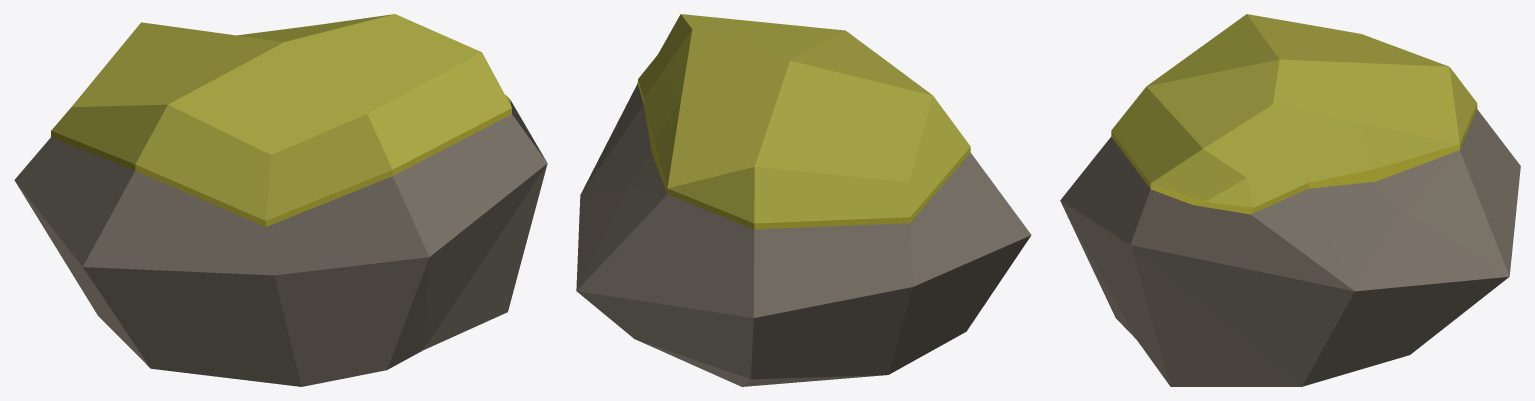
Rendered from Mossy_Rock_Env_01.glb.
3 views of the same model, side by side, from view 1: azimuth 30°, elevation 25°; view 2: azimuth 150°, elevation 25°; view 3: azimuth 270°, elevation 25° (orthographic). The views are drawn at different scales.
Parts seen in each view (by area): view 1: Mossy_Rock_Env_01; view 2: Mossy_Rock_Env_01; view 3: Mossy_Rock_Env_01.
Part boxes in pixels (box(x1,y1,x2,y2)): Mossy_Rock_Env_01: box(14, 14, 547, 386); Mossy_Rock_Env_01: box(576, 14, 1031, 386); Mossy_Rock_Env_01: box(1060, 14, 1520, 386).
Bounding box in the file's own units: 0.2834 × 0.1788 × 0.2917.
Materials: 1 (1 with a texture image).
